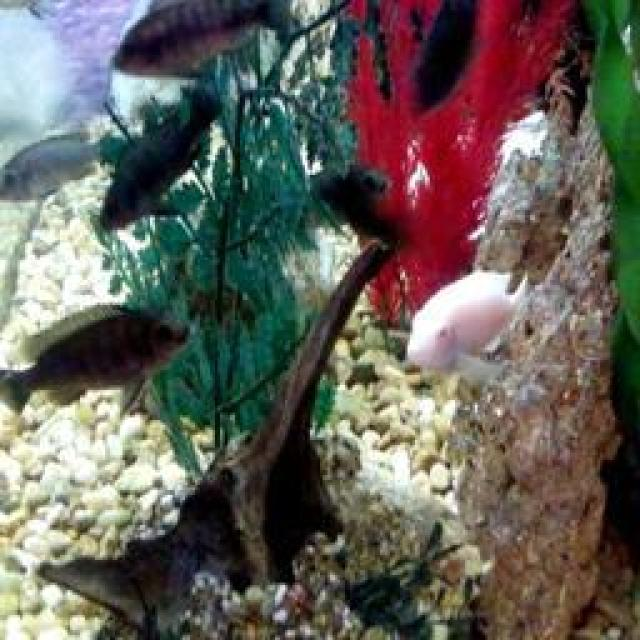aquatic plants: (87, 0, 367, 473)
fish: (0, 302, 192, 422), (99, 86, 226, 231), (404, 267, 540, 380), (114, 0, 296, 80), (0, 127, 111, 201)
